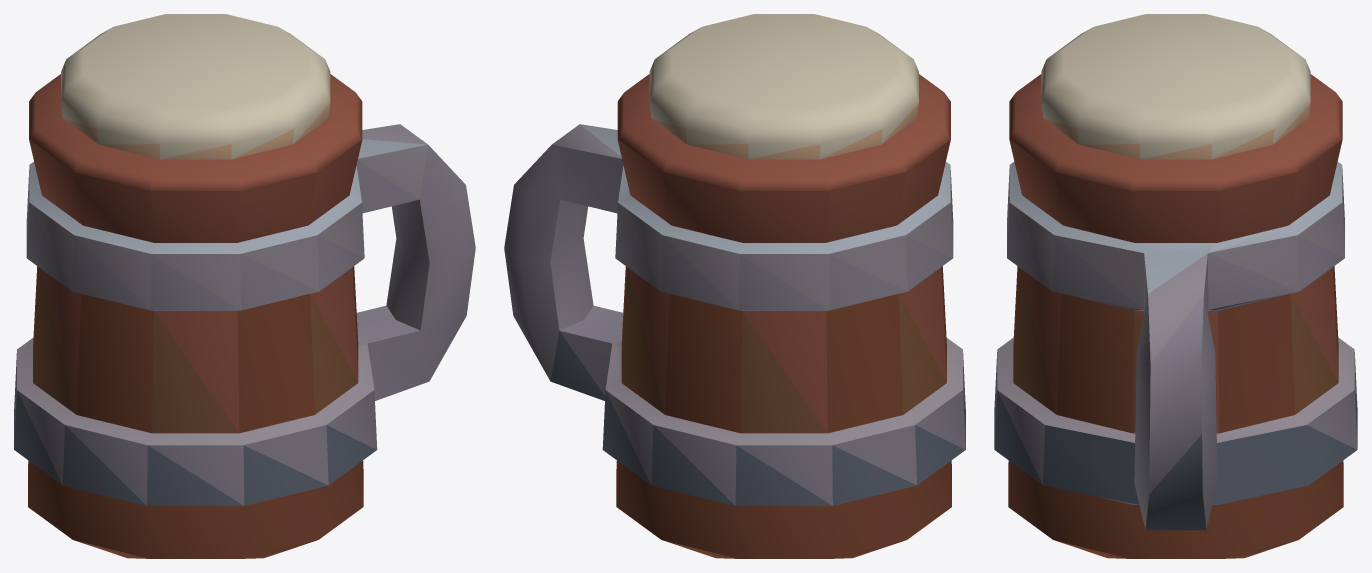
The picture shows the model from 3 angles, left to right: view 1: azimuth 30°, elevation 25°; view 2: azimuth 150°, elevation 25°; view 3: azimuth 270°, elevation 25°; orthographic projection.
Parts seen in each view (by area): view 1: model; view 2: model; view 3: model.
Boxes of the visible parts, bbox=[...] form: model: bbox=[14, 14, 475, 558]; model: bbox=[504, 14, 965, 558]; model: bbox=[994, 14, 1357, 558].
Size of the model in its own units: 0.4007 by 0.4113 by 0.297.
